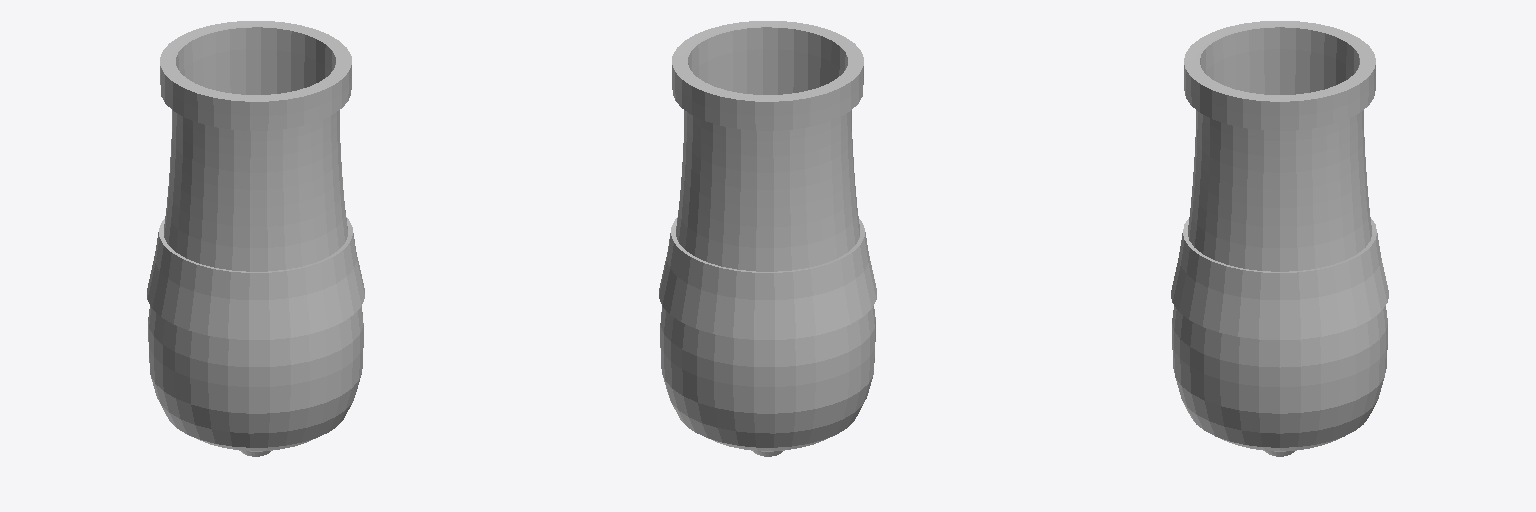
The model's file is cannon_18.obj.
3 renders of one model, left to right at view 1: azimuth 30°, elevation 25°; view 2: azimuth 150°, elevation 25°; view 3: azimuth 270°, elevation 25°, orthographic.
Parts seen in each view (by area): view 1: 炮管.003_柱体.009; view 2: 炮管.003_柱体.009; view 3: 炮管.003_柱体.009.
Boxes of the visible parts, x1,y1,x2,y2 form: 炮管.003_柱体.009: [147, 21, 364, 456]; 炮管.003_柱体.009: [659, 21, 876, 456]; 炮管.003_柱体.009: [1171, 21, 1388, 456].
Bounding box in the file's own units: 0.8576 × 1.68 × 0.8576.